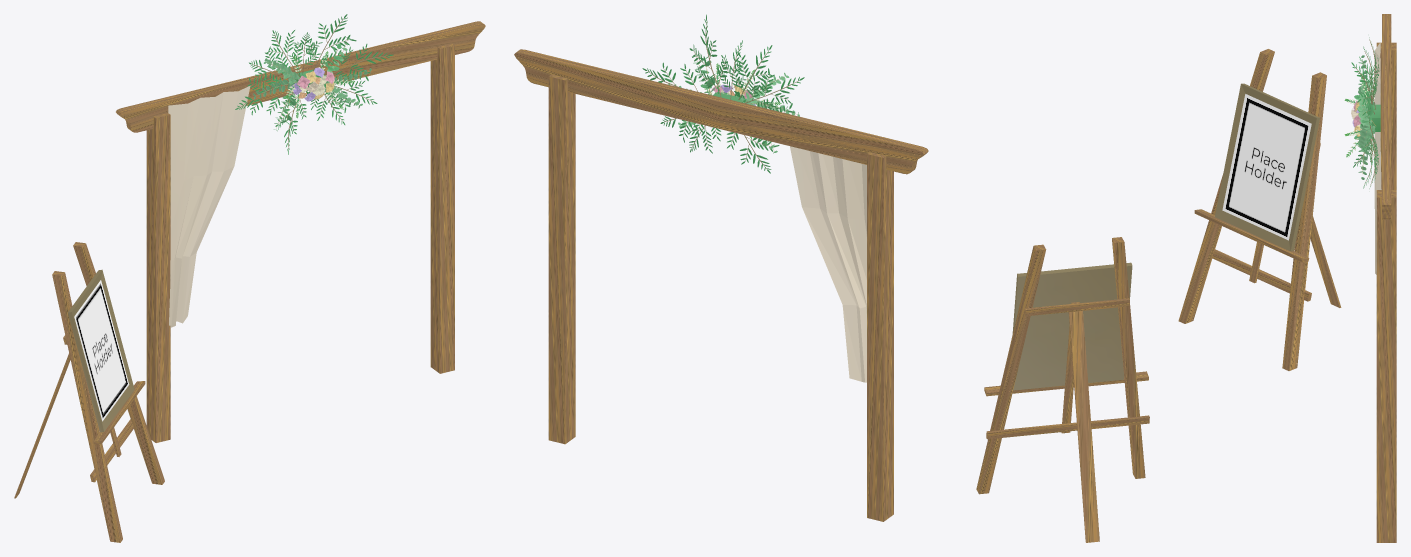
File: gate.glb
3 views of the same model, side by side, from view 1: azimuth 30°, elevation 25°; view 2: azimuth 150°, elevation 25°; view 3: azimuth 270°, elevation 25° (orthographic). The views are drawn at different scales.
Visible parts, largest first — view 1: GateScene, PhotoStand.001; view 2: GateScene, PhotoStand.001; view 3: PhotoStand.001, GateScene.
Boxes of the visible parts, x1,y1,x2,y2 form: GateScene: (116,14,485,442); PhotoStand.001: (14,242,164,542); GateScene: (514,14,928,521); PhotoStand.001: (976,237,1149,542); PhotoStand.001: (1178,49,1341,370); GateScene: (1344,14,1396,542).
Size of the model in its own units: 3.19 by 2.43 by 1.15.
13 materials, 13 textured.
